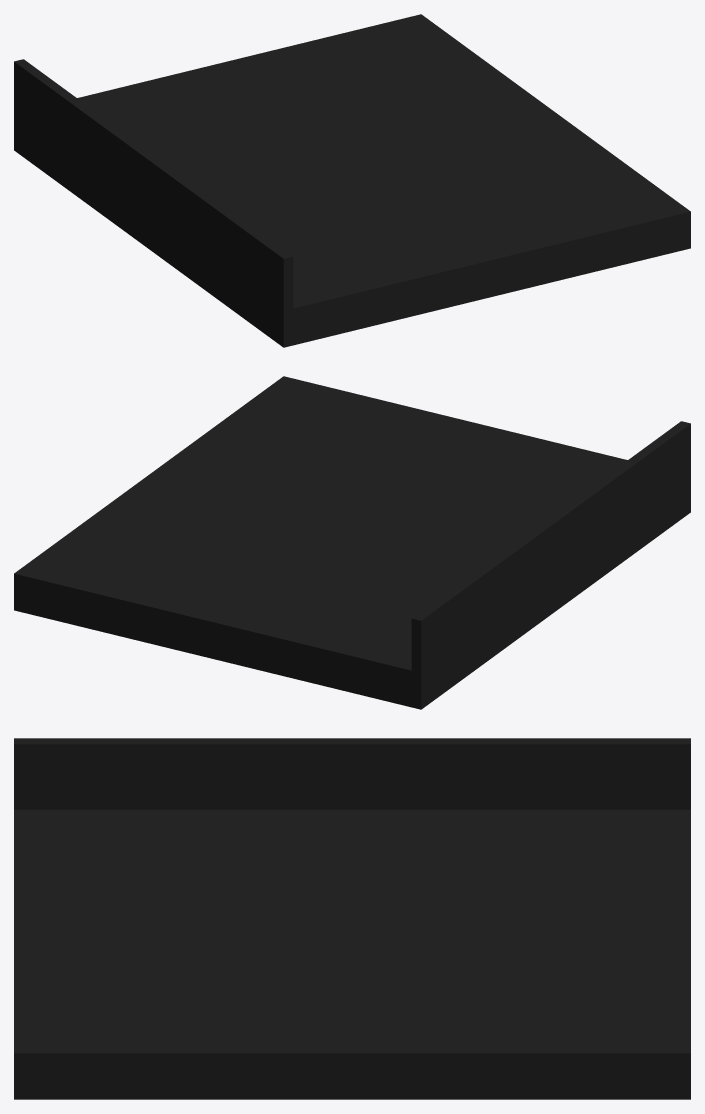
Rendered from Itr_Bed_Bunk2_Sidebed_02.FBX.
3 renders of one model, top to bottom at view 1: azimuth 30°, elevation 25°; view 2: azimuth 150°, elevation 25°; view 3: azimuth 270°, elevation 25°, orthographic. The views are drawn at different scales.
Visible parts, largest first — view 1: Itr_Bed_Bunk2_Sidebed_02; view 2: Itr_Bed_Bunk2_Sidebed_02; view 3: Itr_Bed_Bunk2_Sidebed_02.
Part boxes in pixels (box(x1,y1,x2,y2)): Itr_Bed_Bunk2_Sidebed_02: box(14, 14, 690, 347); Itr_Bed_Bunk2_Sidebed_02: box(14, 376, 690, 709); Itr_Bed_Bunk2_Sidebed_02: box(14, 738, 690, 1099).
Bounding box in the file's own units: 77.24 × 16.11 × 88.6.
